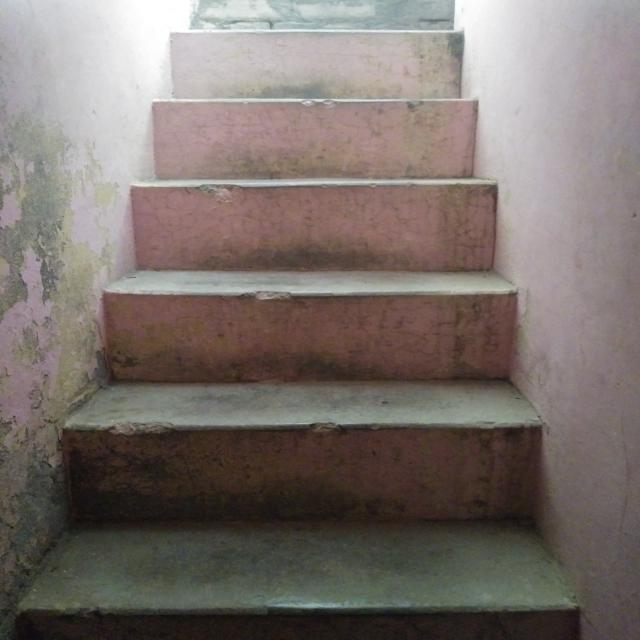Stairs: (117, 15, 573, 609)
